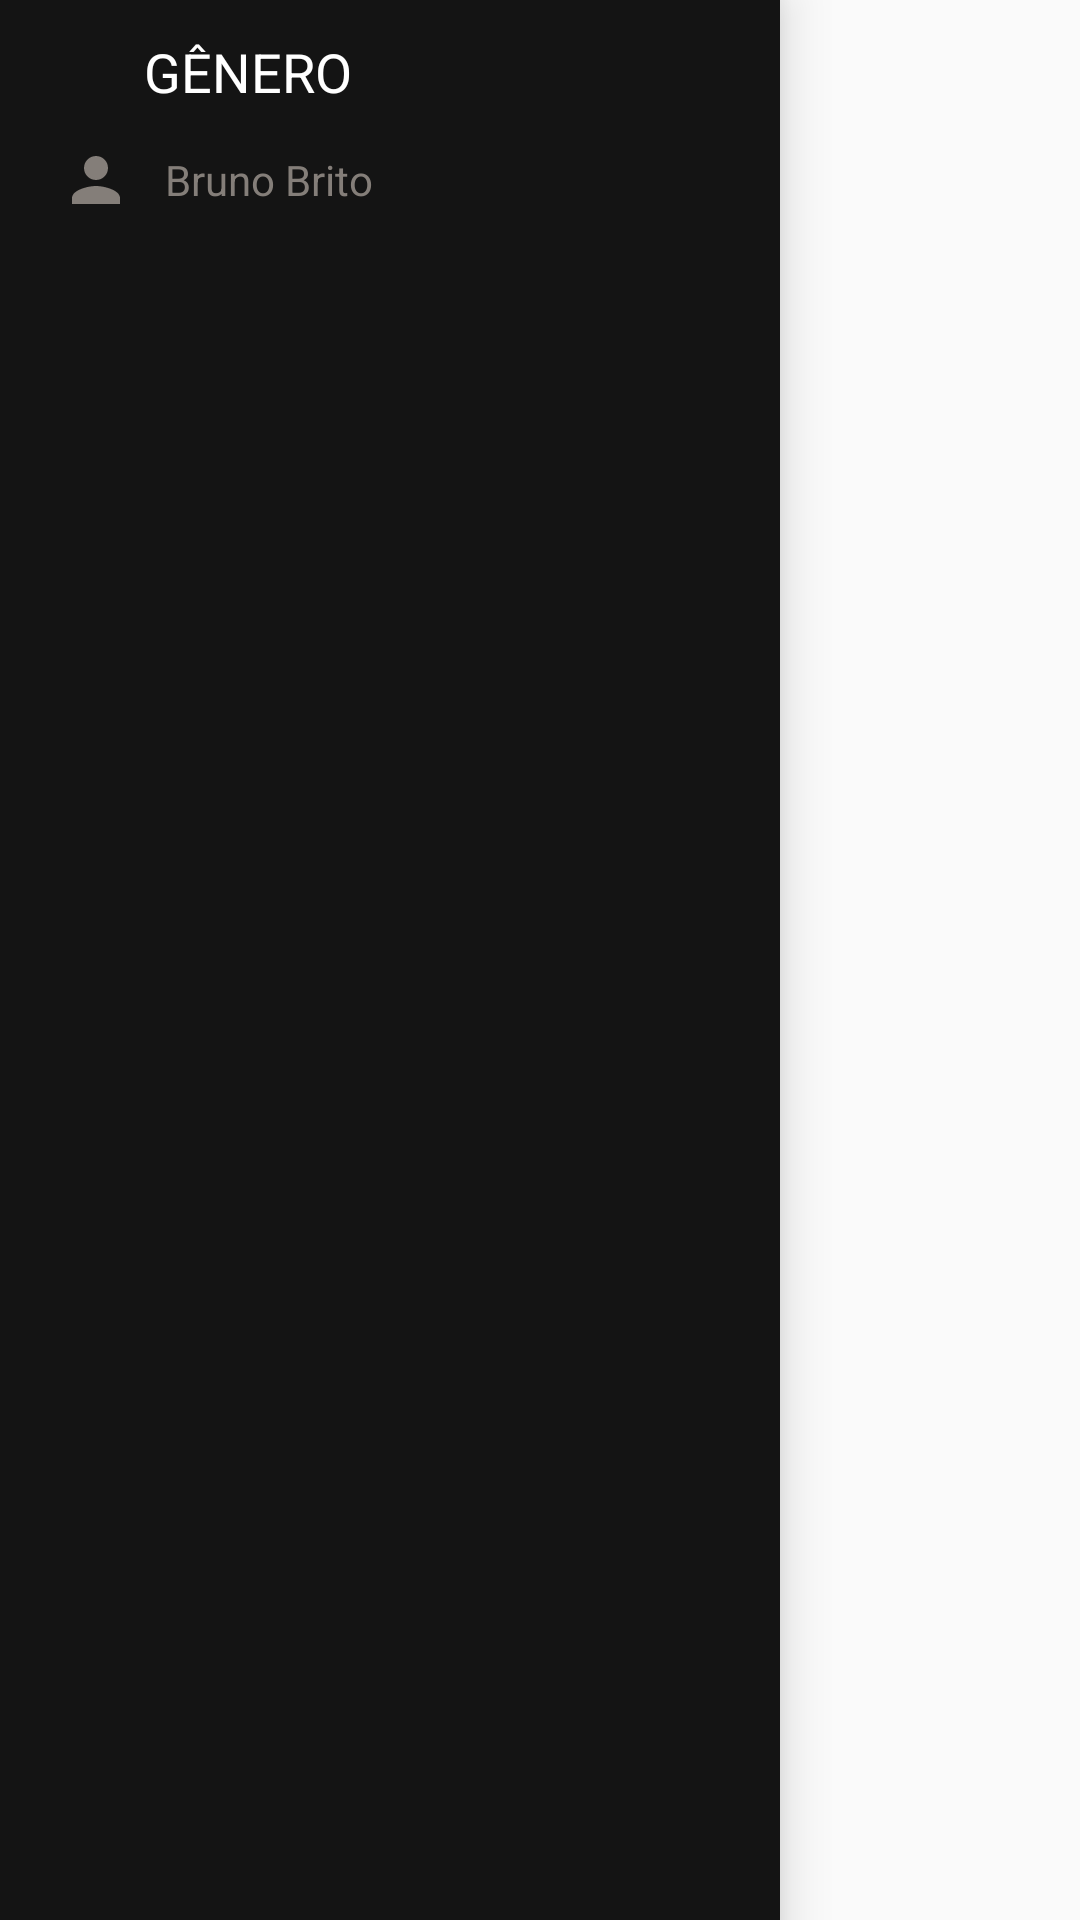

Point at icon controls on the screen. Image size 1080w x 1920h, points as [x,y].
person: [96,180]
